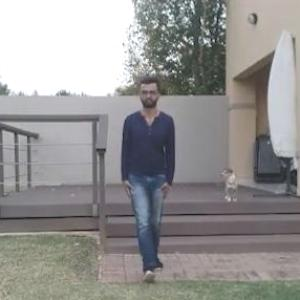follow: (121, 70, 184, 299)
